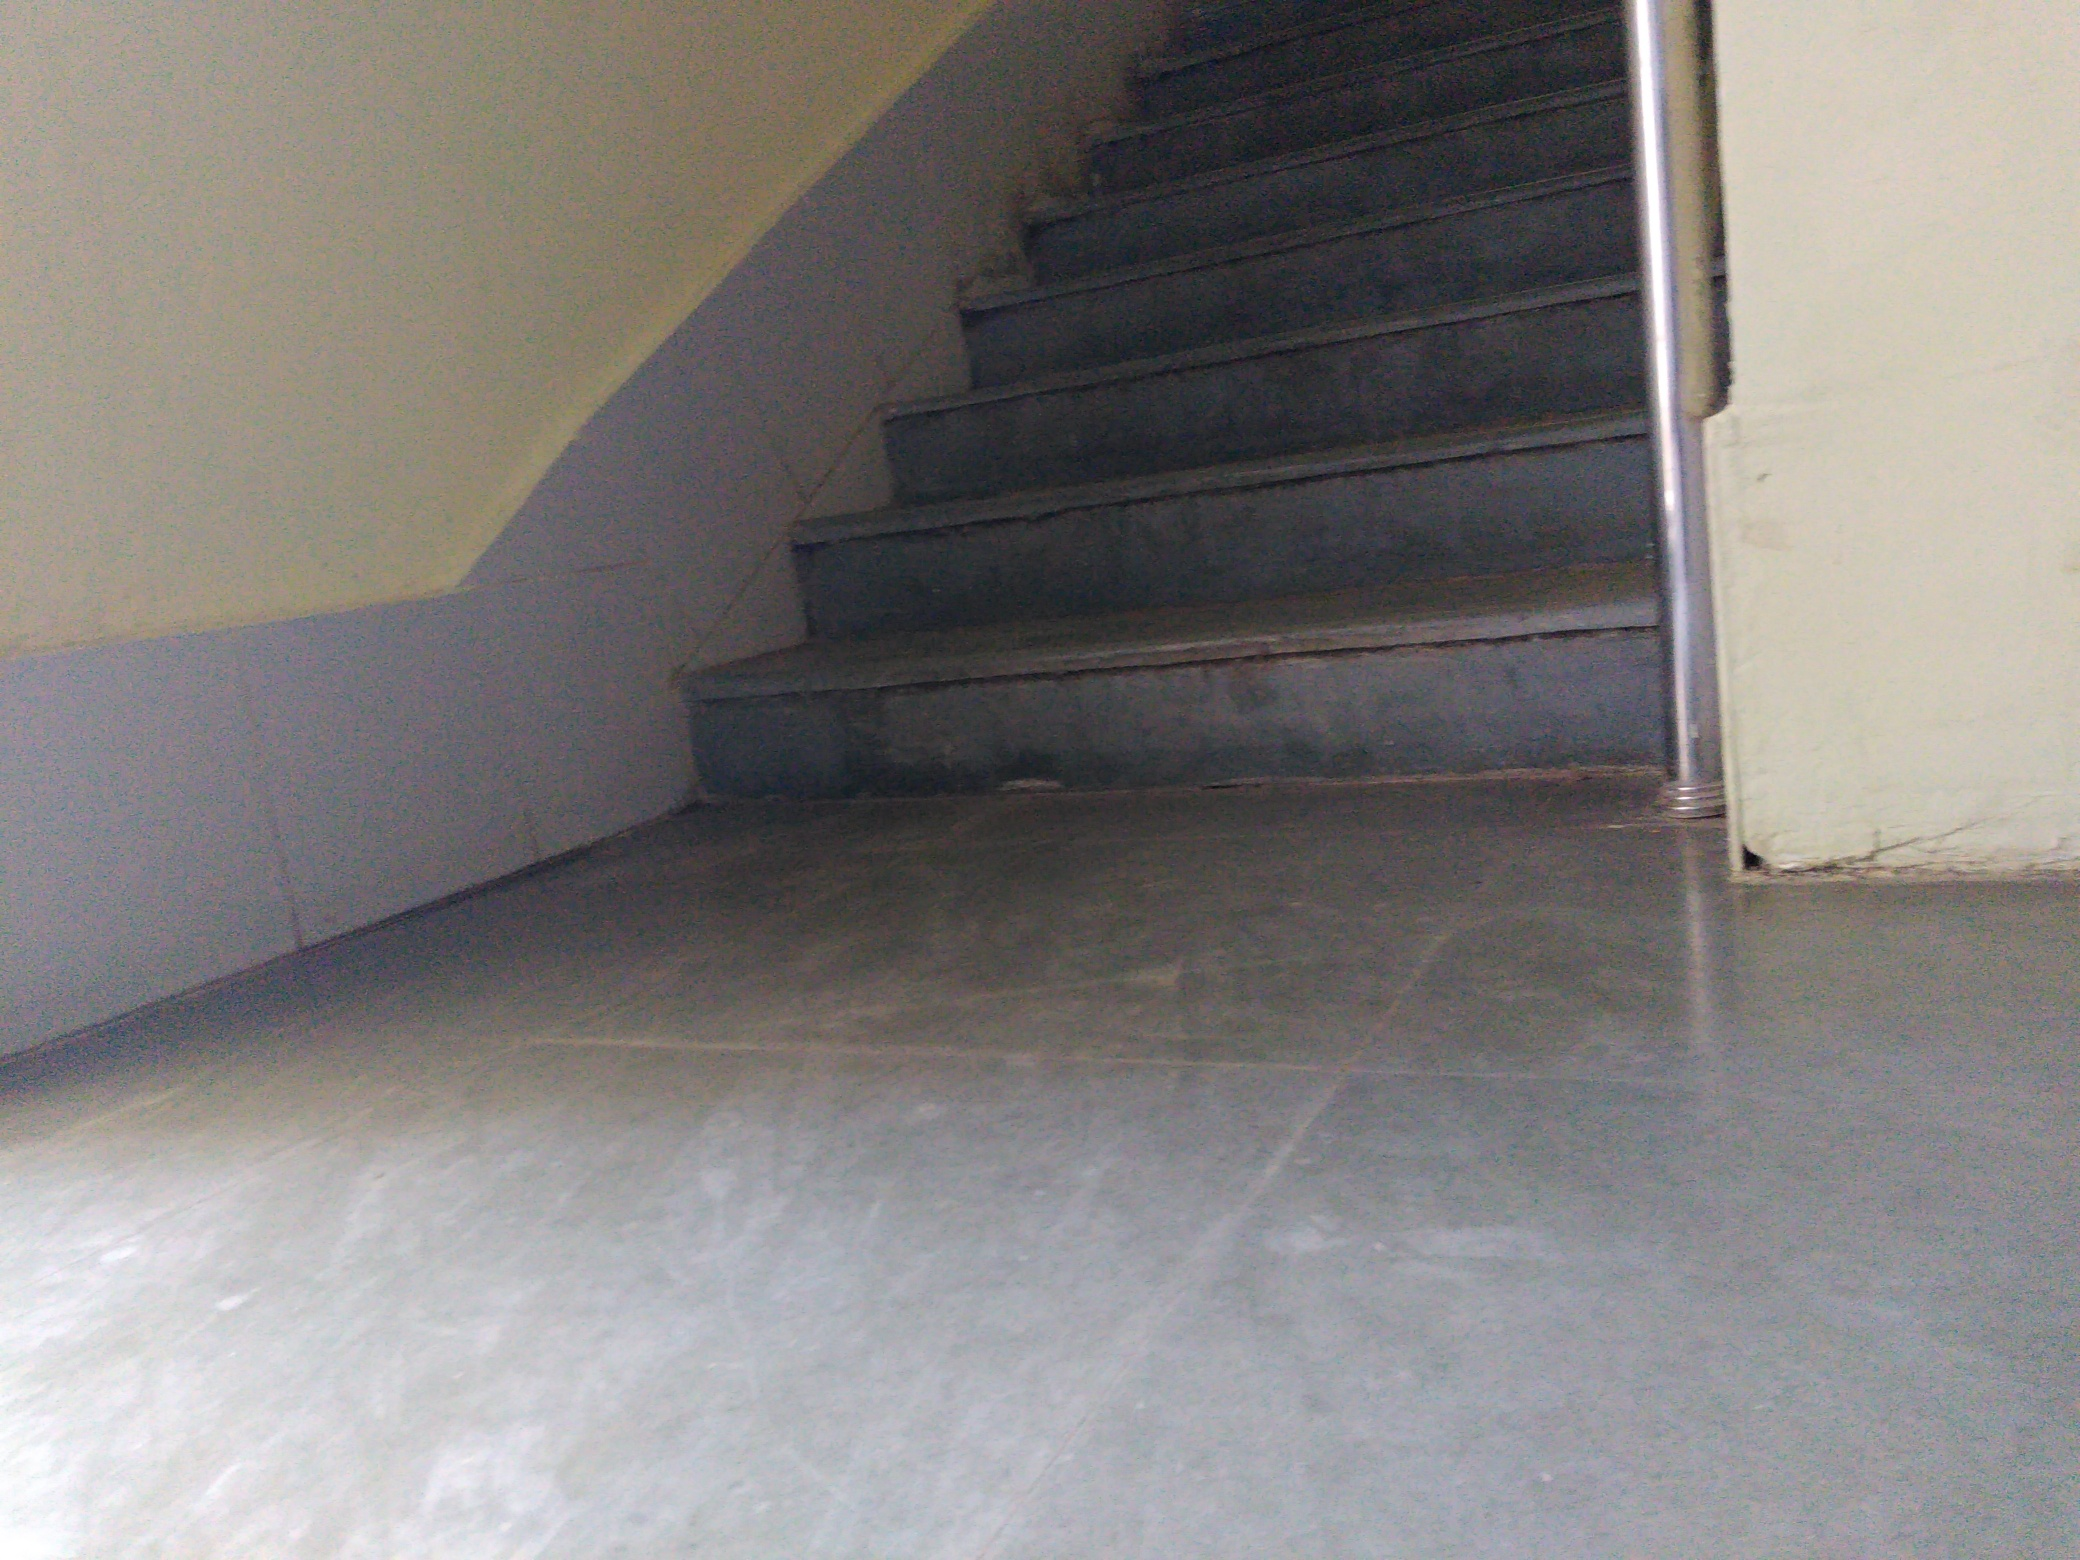stairs_up: (690, 11, 1631, 805)
